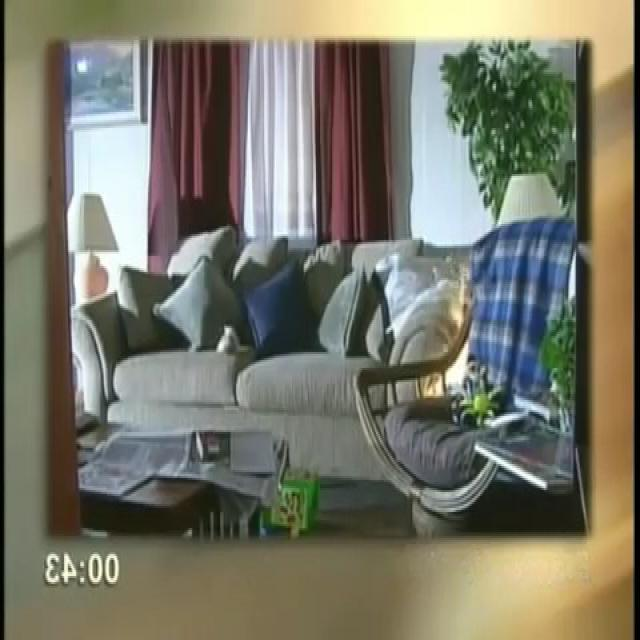fire: (421, 279, 467, 399)
